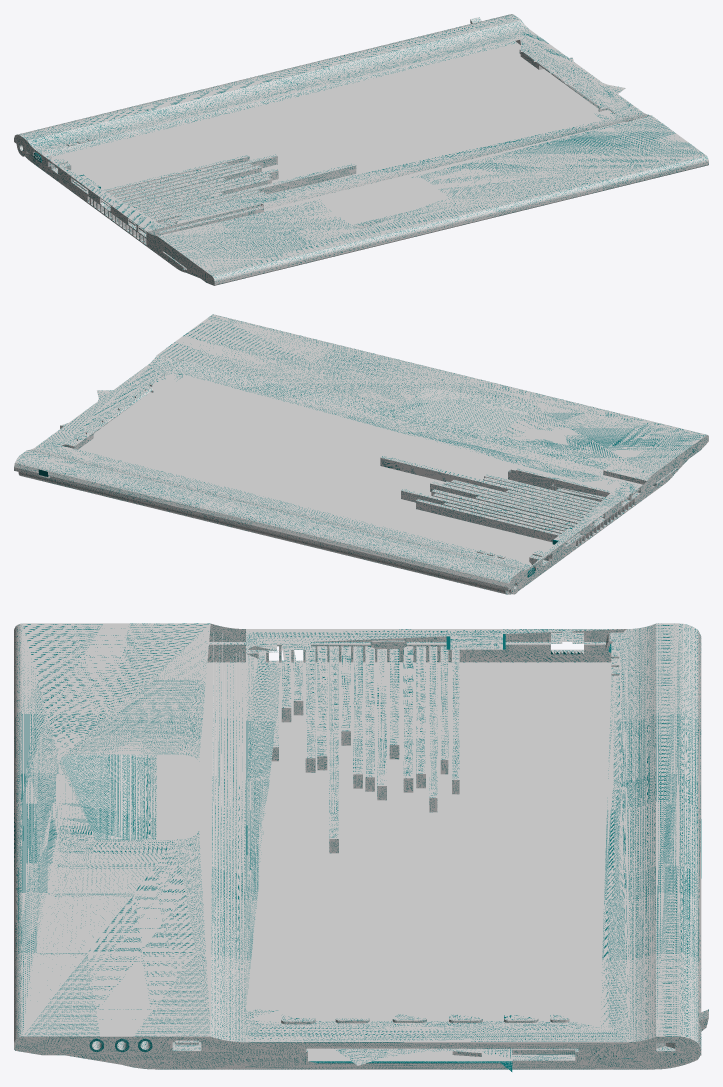
3 renders of one model, top to bottom at view 1: azimuth 30°, elevation 25°; view 2: azimuth 150°, elevation 25°; view 3: azimuth 270°, elevation 25°, orthographic. The views are drawn at different scales.
Bounding box in the file's own units: 1.34 × 0.0534 × 0.9224.
